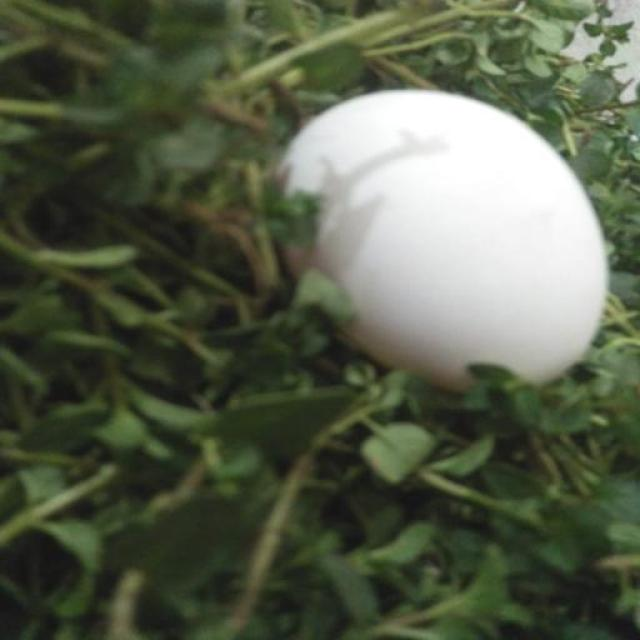telur: (278, 90, 600, 388)
